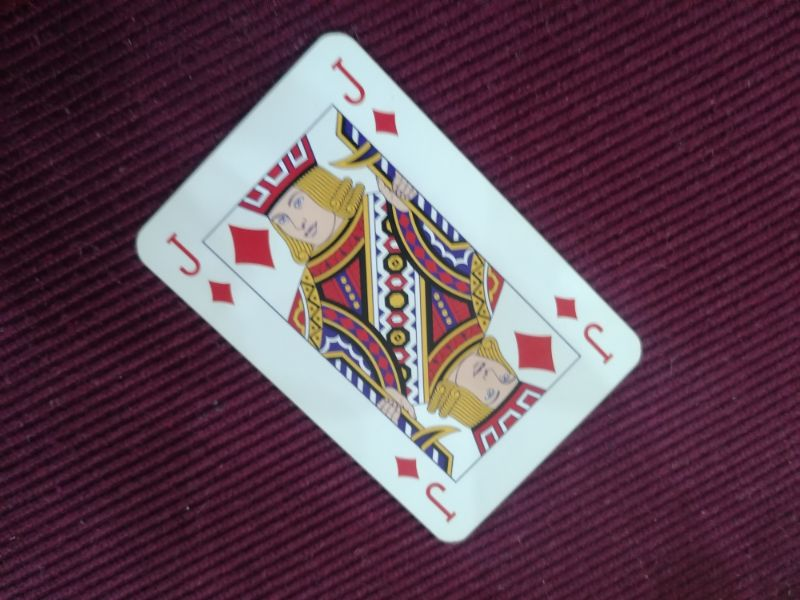Jd: (326, 51, 404, 137), (162, 228, 239, 308), (550, 290, 617, 366), (393, 452, 461, 526)
